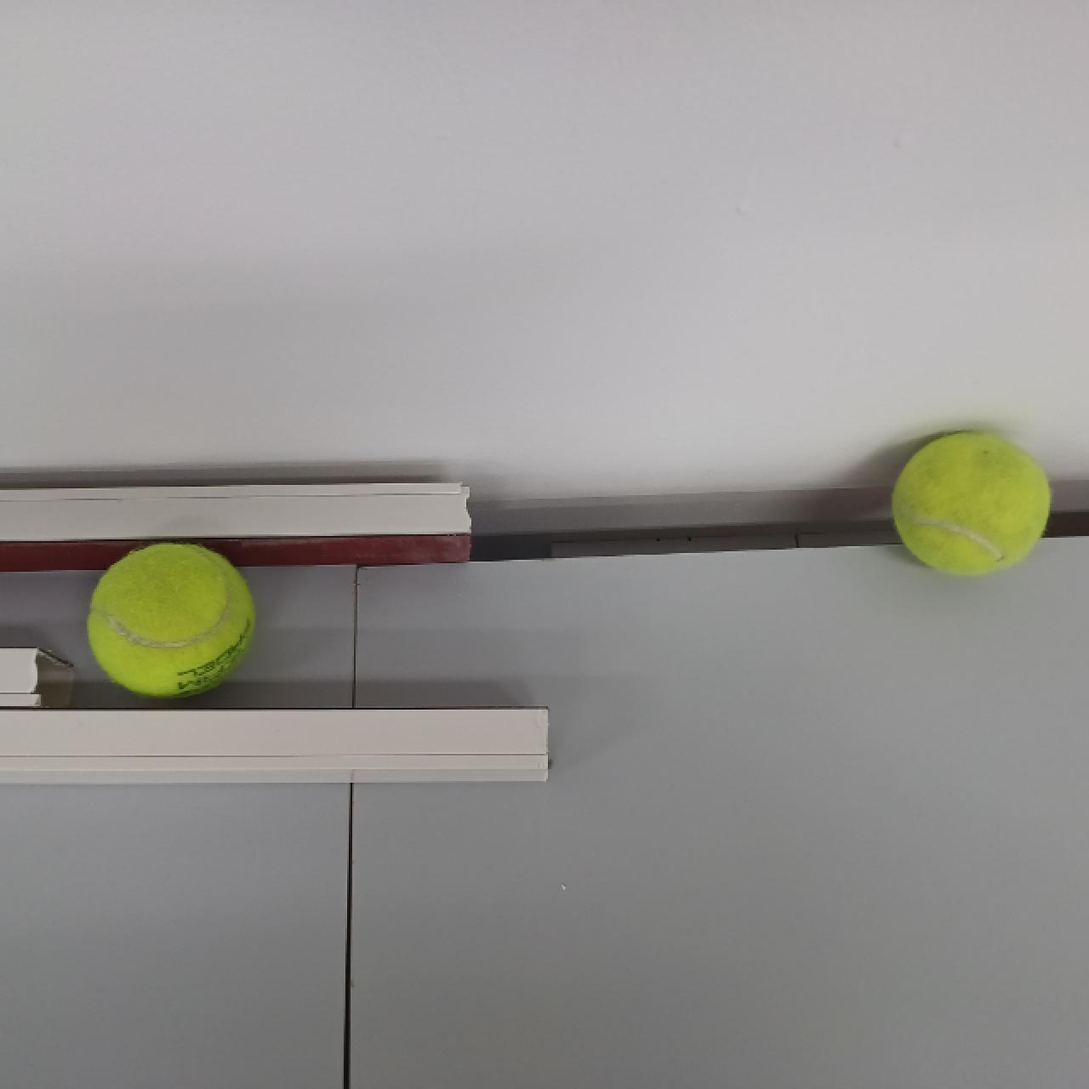tennis-ball: (84, 538, 257, 698), (891, 430, 1053, 576)
